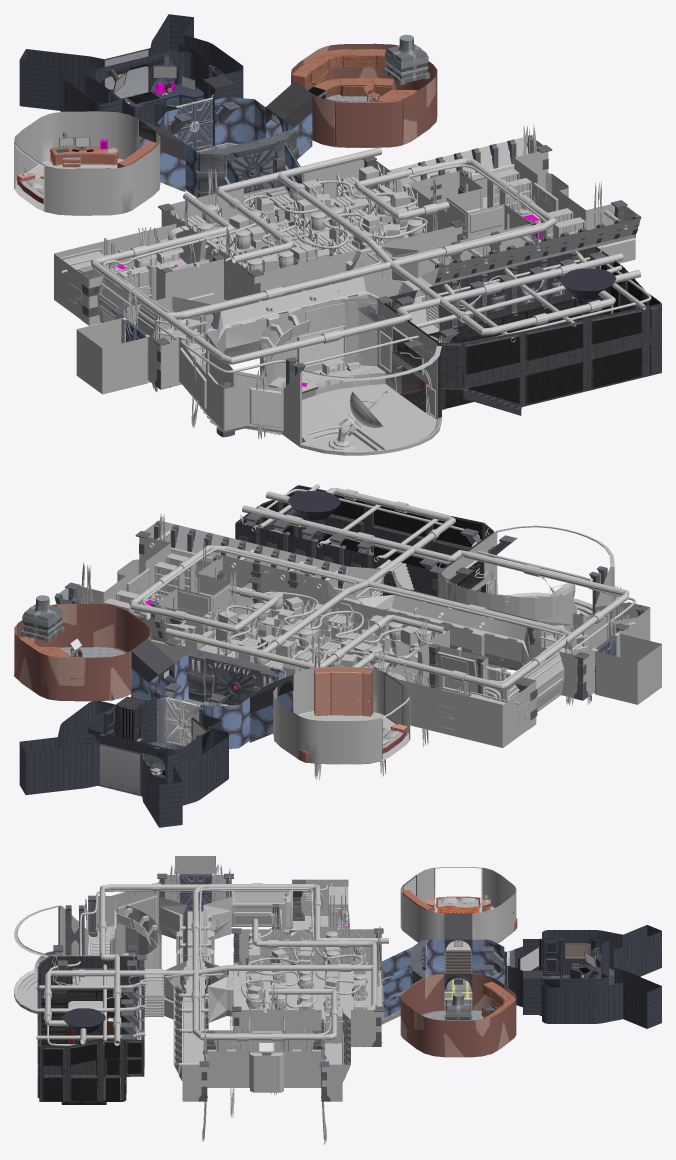
File: Finally(22.02).fbx
3 views of the same model, one above another, from view 1: azimuth 30°, elevation 25°; view 2: azimuth 150°, elevation 25°; view 3: azimuth 270°, elevation 25° (orthographic). The views are drawn at different scales.
Visible parts, largest first — view 1: Pipes, GeneratorBase, HallsBase, TarelkaBase, DocksBase, SleepBase, BetweenBase, ArhivBaseBase, Metall, ServerBase, KitchenBase, SkladMiniBase (+17 smaller); view 2: Pipes, DocksBase, HallsBase, KitchenBase, GeneratorBase, ServerBase, BetweenBase, Metall, SleepBase, ArhivBaseBase, SkladMiniBase, TarelkaBase (+12 smaller); view 3: Pipes, DocksBase, GeneratorBase, ArhivBaseBase, HallsBase, Metall, KitchenBase, SkladBase, BetweenBase, SleepBase, TarelkaBase, ServerBase (+10 smaller).
Boxes of the visible parts, <box> form: Pipes: <box>61,147,651,373</box>; GeneratorBase: <box>384,246,661,415</box>; HallsBase: <box>179,224,552,435</box>; TarelkaBase: <box>260,298,441,455</box>; DocksBase: <box>19,14,243,150</box>; SleepBase: <box>14,111,160,215</box>; BetweenBase: <box>139,81,312,217</box>; ArhivBaseBase: <box>390,137,641,263</box>; Metall: <box>81,101,640,442</box>; ServerBase: <box>54,223,223,339</box>; KitchenBase: <box>291,43,437,147</box>; SkladMiniBase: <box>76,296,226,394</box>; Pipes: <box>129,484,635,704</box>; DocksBase: <box>19,696,228,827</box>; HallsBase: <box>222,540,650,670</box>; KitchenBase: <box>14,603,151,701</box>; GeneratorBase: <box>235,485,494,596</box>; ServerBase: <box>390,645,563,747</box>; BetweenBase: <box>130,639,293,748</box>; Metall: <box>54,512,649,729</box>; SleepBase: <box>273,667,410,764</box>; ArhivBaseBase: <box>56,521,241,656</box>; SkladMiniBase: <box>522,613,661,704</box>; TarelkaBase: <box>440,525,614,668</box>; Pipes: <box>36,883,388,1064</box>; DocksBase: <box>505,925,661,1028</box>; GeneratorBase: <box>37,956,144,1104</box>; ArhivBaseBase: <box>173,1010,350,1101</box>; HallsBase: <box>86,882,234,1062</box>; Metall: <box>53,873,504,1101</box>; KitchenBase: <box>400,974,516,1057</box>; SkladBase: <box>233,929,383,1046</box>; BetweenBase: <box>381,913,504,1024</box>; SleepBase: <box>400,867,516,950</box>; TarelkaBase: <box>14,905,161,1016</box>; ServerBase: <box>231,879,348,929</box>.
Size of the model in its own units: 2893 by 875 by 3779.
